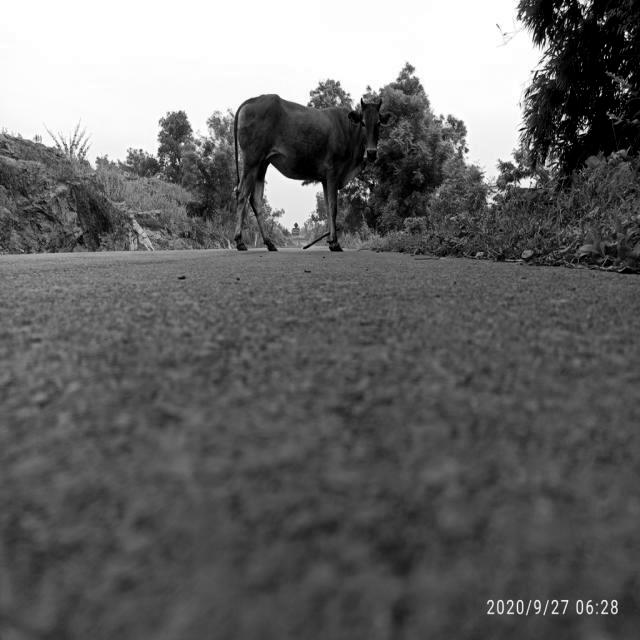COW: (234, 94, 395, 251)
